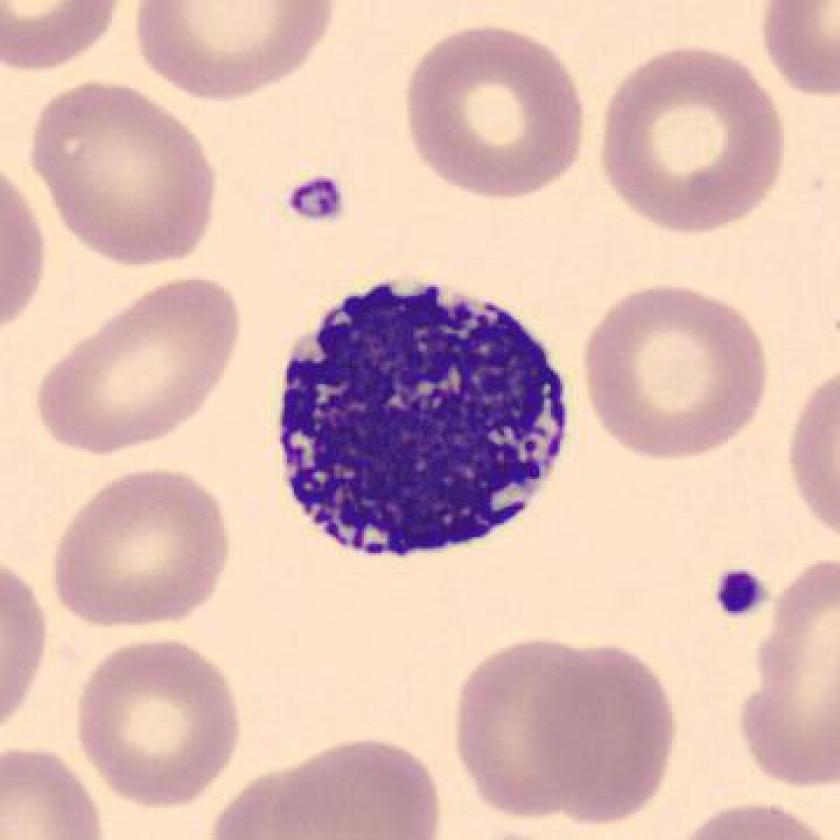basophil: (269, 258, 580, 561)
